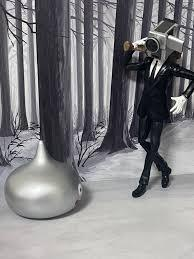no more kid: (145, 17, 187, 63)
